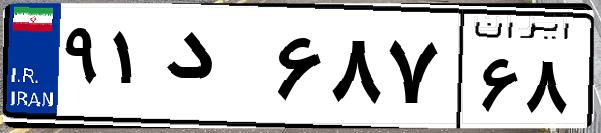1: (110, 28, 158, 98)
6: (270, 28, 330, 110), (475, 38, 525, 113)
7: (385, 28, 445, 110)
8: (330, 28, 385, 110), (525, 38, 570, 115)
9: (57, 26, 110, 100)
د: (158, 20, 270, 120)
